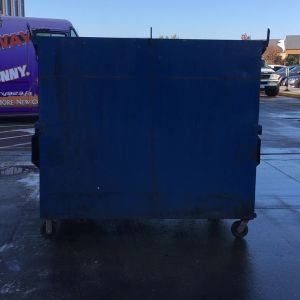Dumpster: (25, 19, 274, 242)
